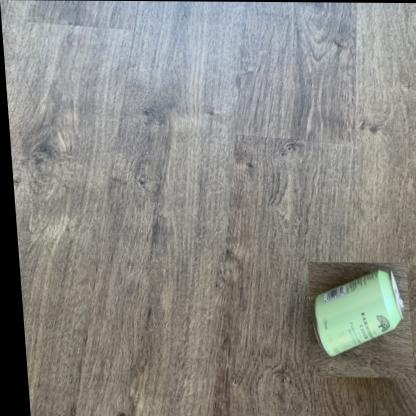trash: (315, 271, 403, 355)
